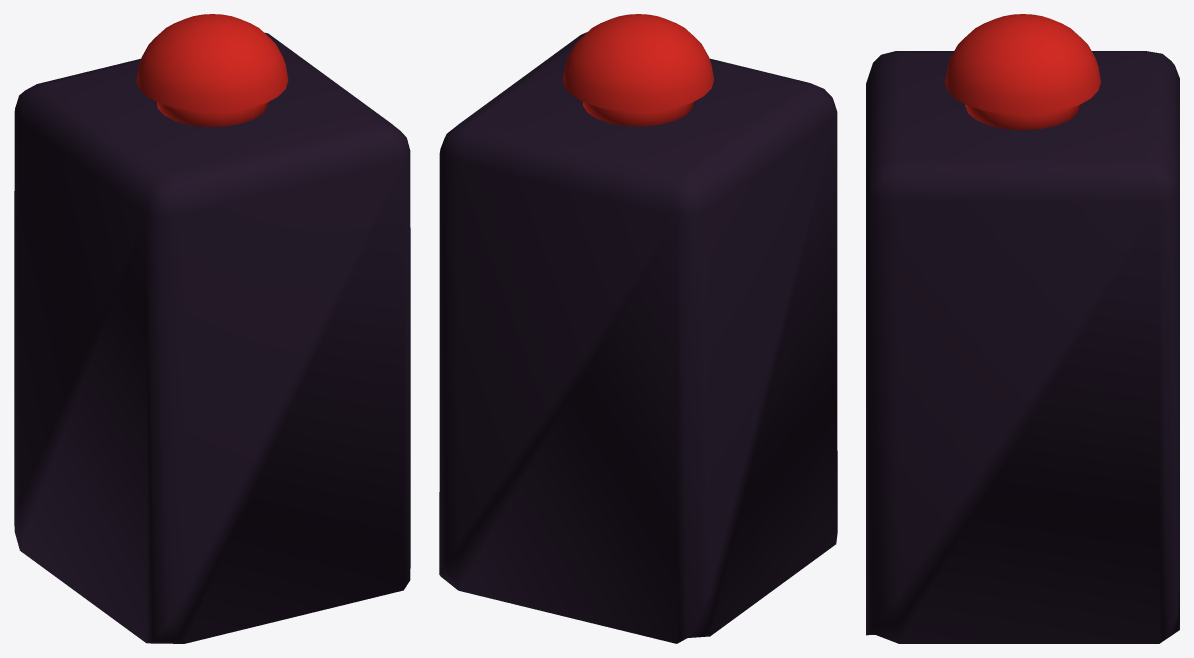
3 views of the same model, side by side, from view 1: azimuth 30°, elevation 25°; view 2: azimuth 150°, elevation 25°; view 3: azimuth 270°, elevation 25° (orthographic). The views are drawn at different scales.
Visible parts, largest first — view 1: Sphere; view 2: Sphere; view 3: Sphere.
Part boxes in pixels (<box>): Sphere: <box>14,14,410,643</box>; Sphere: <box>439,14,837,643</box>; Sphere: <box>866,14,1179,643</box>.
Bounding box in the file's own units: 2.01 × 3.92 × 2.01.
